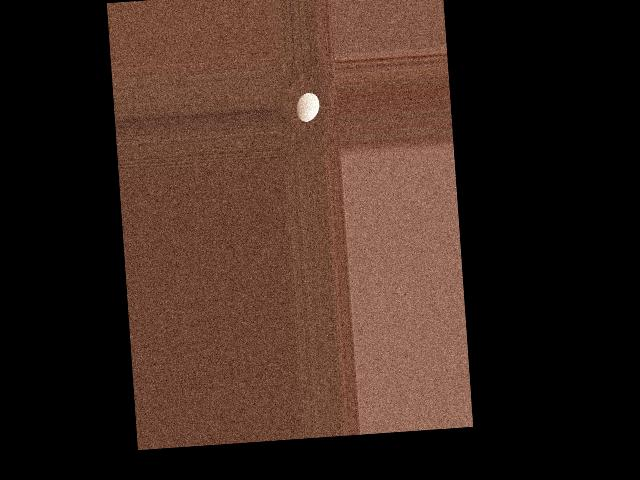egg: (295, 92, 320, 122)
